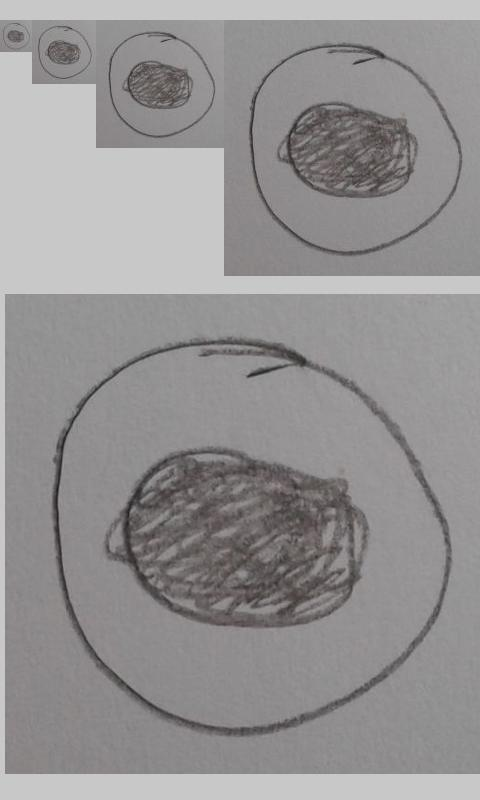radio_button: (47, 334, 454, 739), (247, 41, 464, 257), (107, 30, 216, 139), (37, 24, 93, 80), (2, 22, 31, 50)
